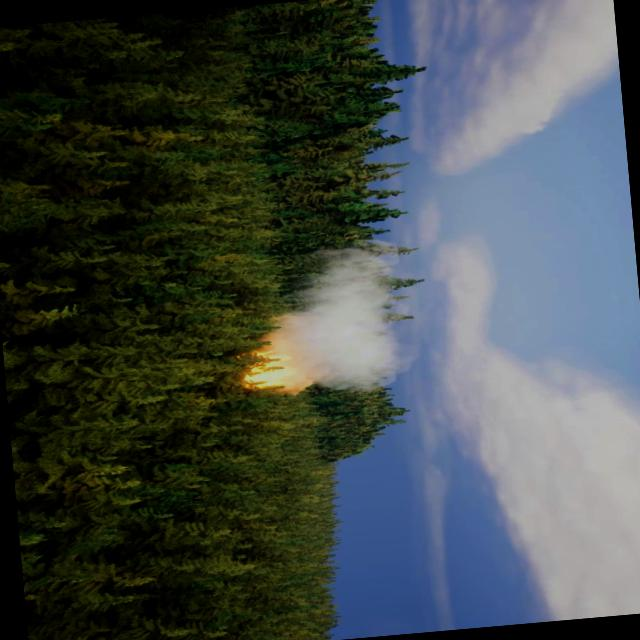fire: (236, 351, 302, 402)
smoke: (243, 243, 420, 400)
